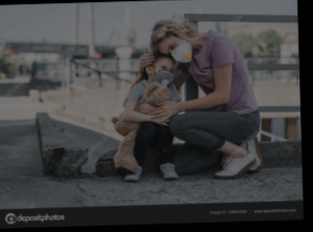with_mask: (165, 38, 193, 63), (150, 63, 176, 88)
